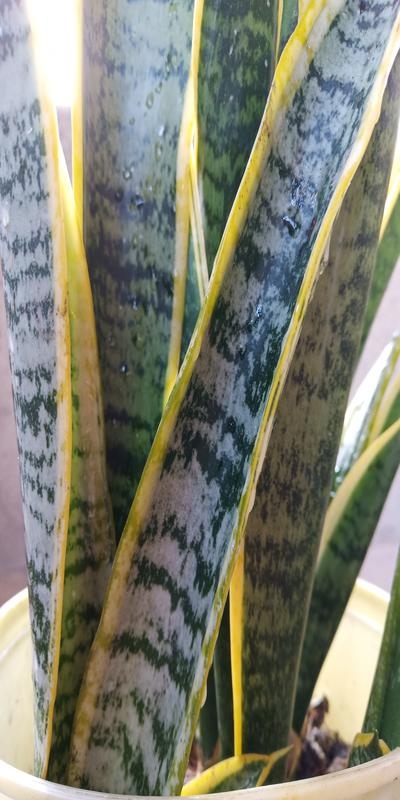Snake plant: (7, 1, 386, 724)
